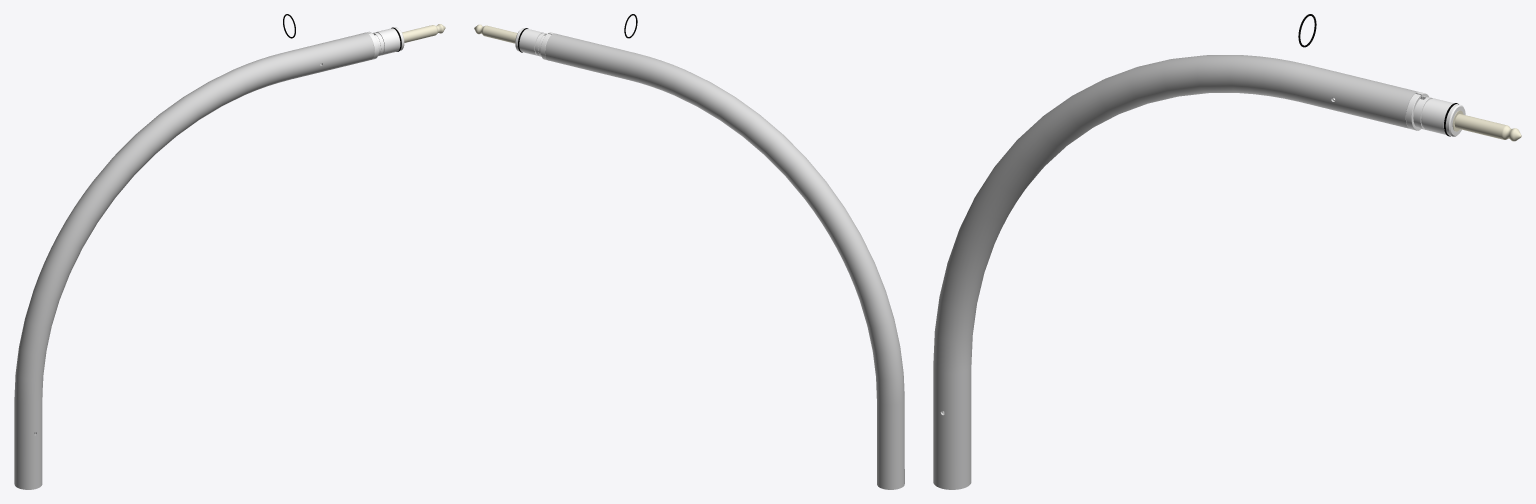
Rendered from SpotCurve.glb.
3 views of the same model, side by side, from view 1: azimuth 30°, elevation 25°; view 2: azimuth 150°, elevation 25°; view 3: azimuth 330°, elevation 25° (orthographic). The views are drawn at different scales.
Visible parts, largest first — view 1: Body4.001; view 2: Body4.001; view 3: Body4.001.
Boxes of the visible parts, <box> form: Body4.001: <box>14,14,445,489</box>; Body4.001: <box>474,14,904,489</box>; Body4.001: <box>933,14,1521,489</box>.
Bounding box in the file's own units: 2.83 × 2.56 × 0.1604.
